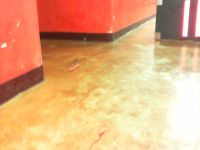switch: (181, 1, 190, 37), (194, 1, 200, 38)
